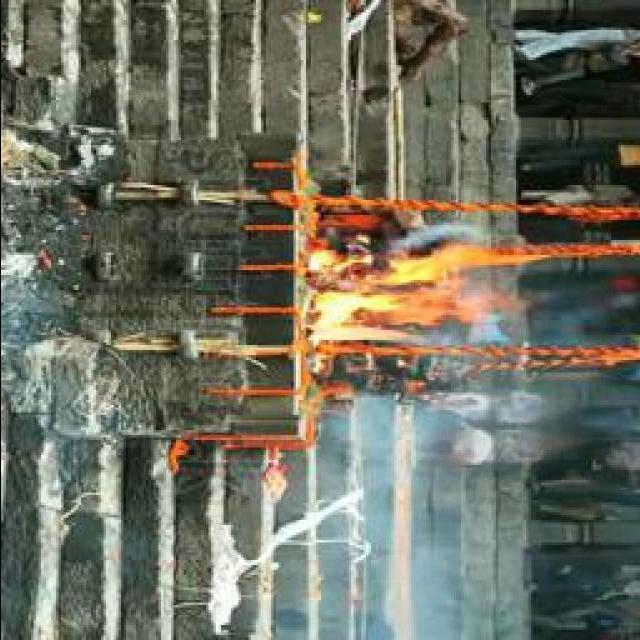Fire: (302, 240, 522, 350)
